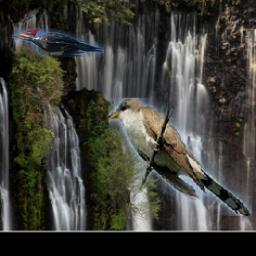Cuckoo: (108, 99, 252, 217)
Woodpecker: (11, 29, 103, 58)
